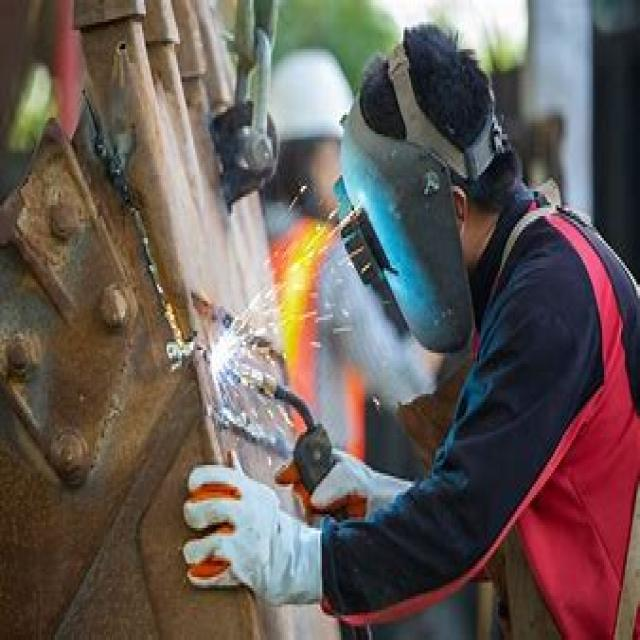with_helmet: (331, 14, 528, 378)
